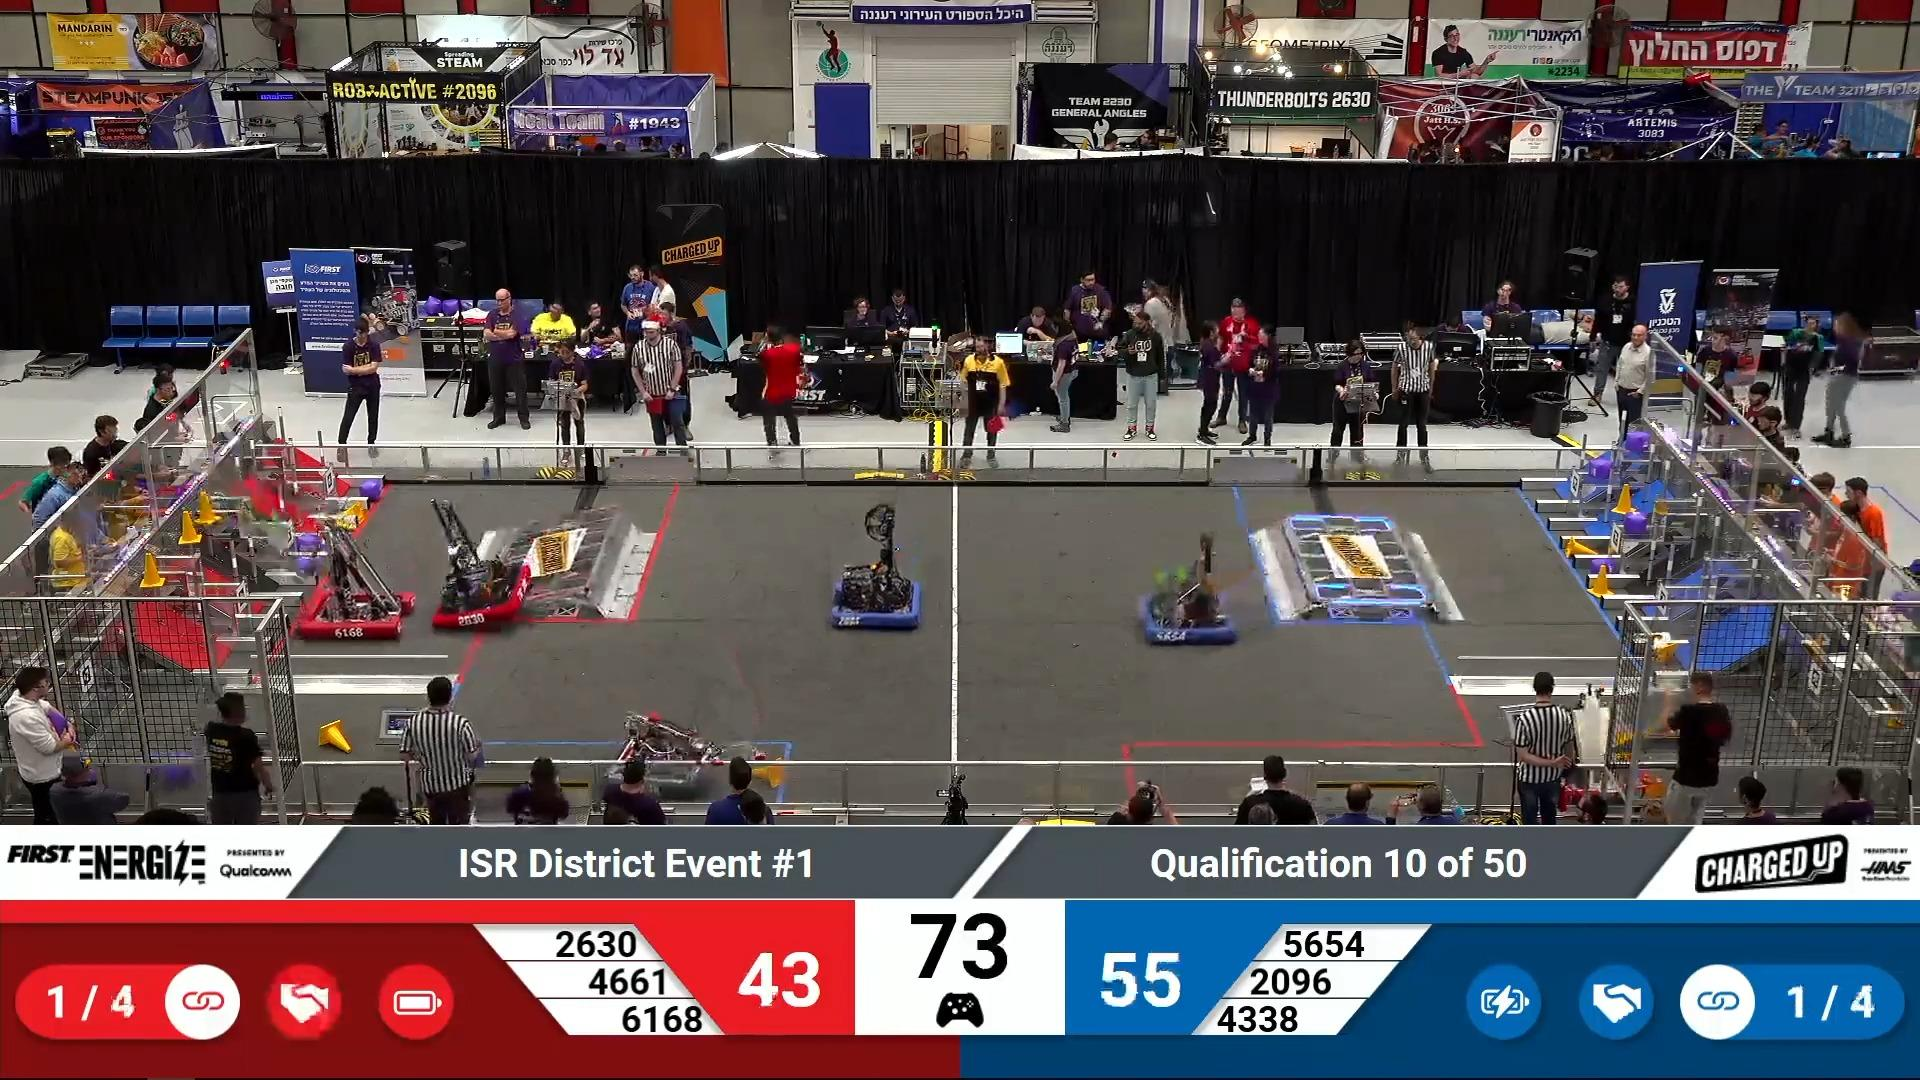robot: (289, 547, 425, 638), (818, 535, 934, 638), (595, 705, 719, 795), (429, 533, 531, 637), (1131, 578, 1242, 647)
